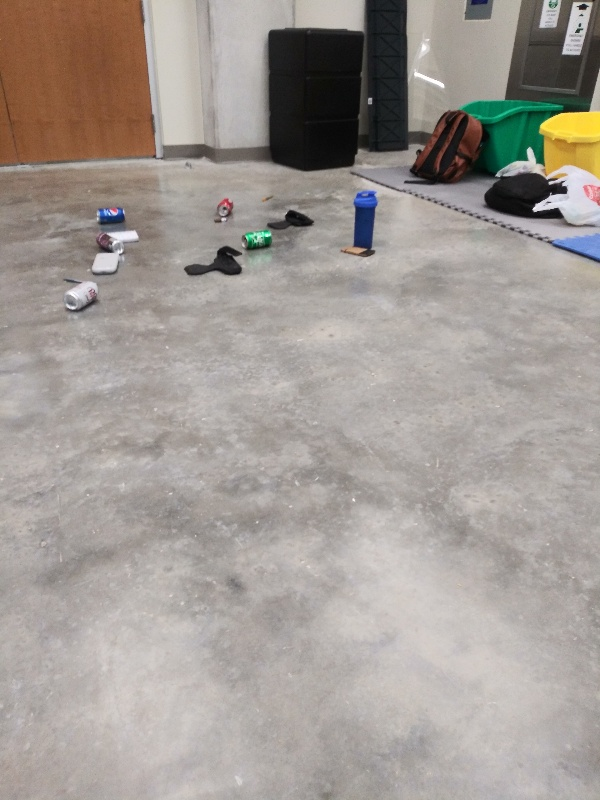can: (61, 278, 100, 313), (94, 230, 125, 256), (93, 204, 128, 225), (238, 229, 273, 249), (214, 194, 237, 217)
